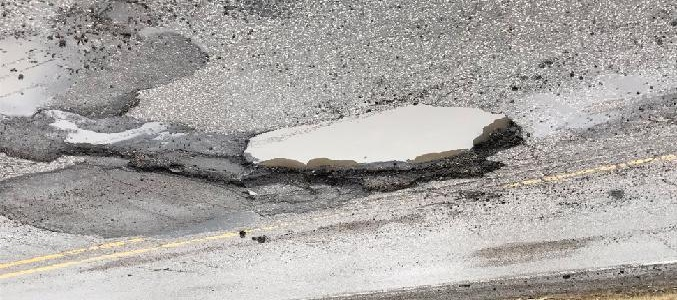pothole: (234, 102, 527, 197), (0, 106, 134, 168)
